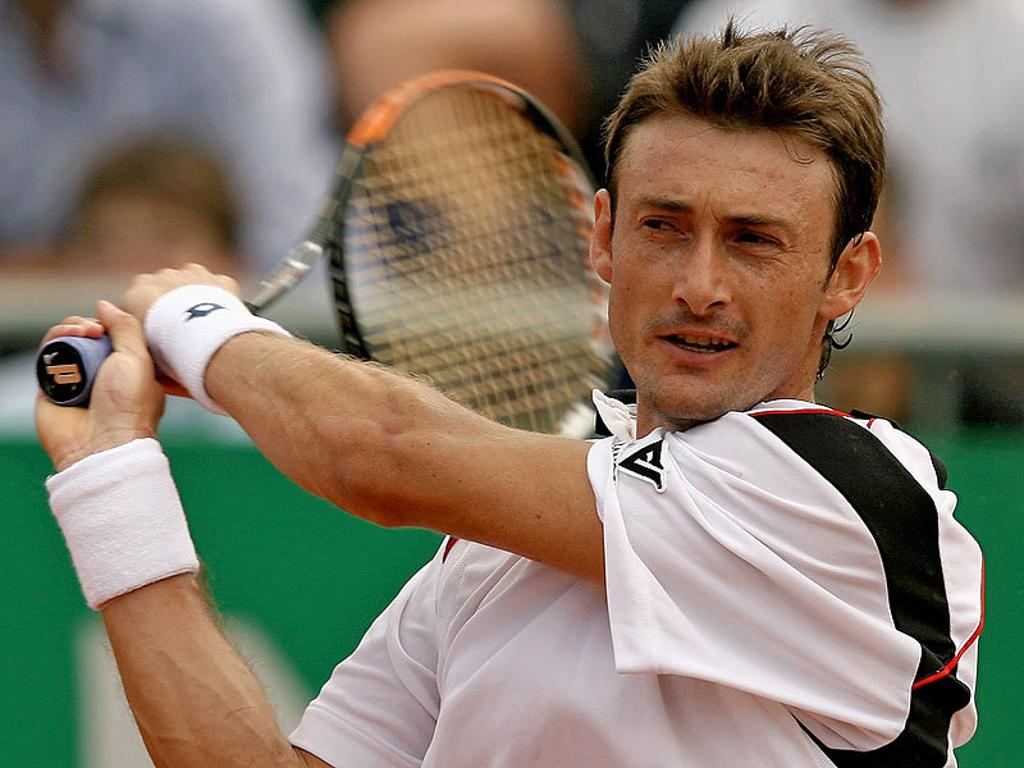face: (616, 116, 830, 422)
